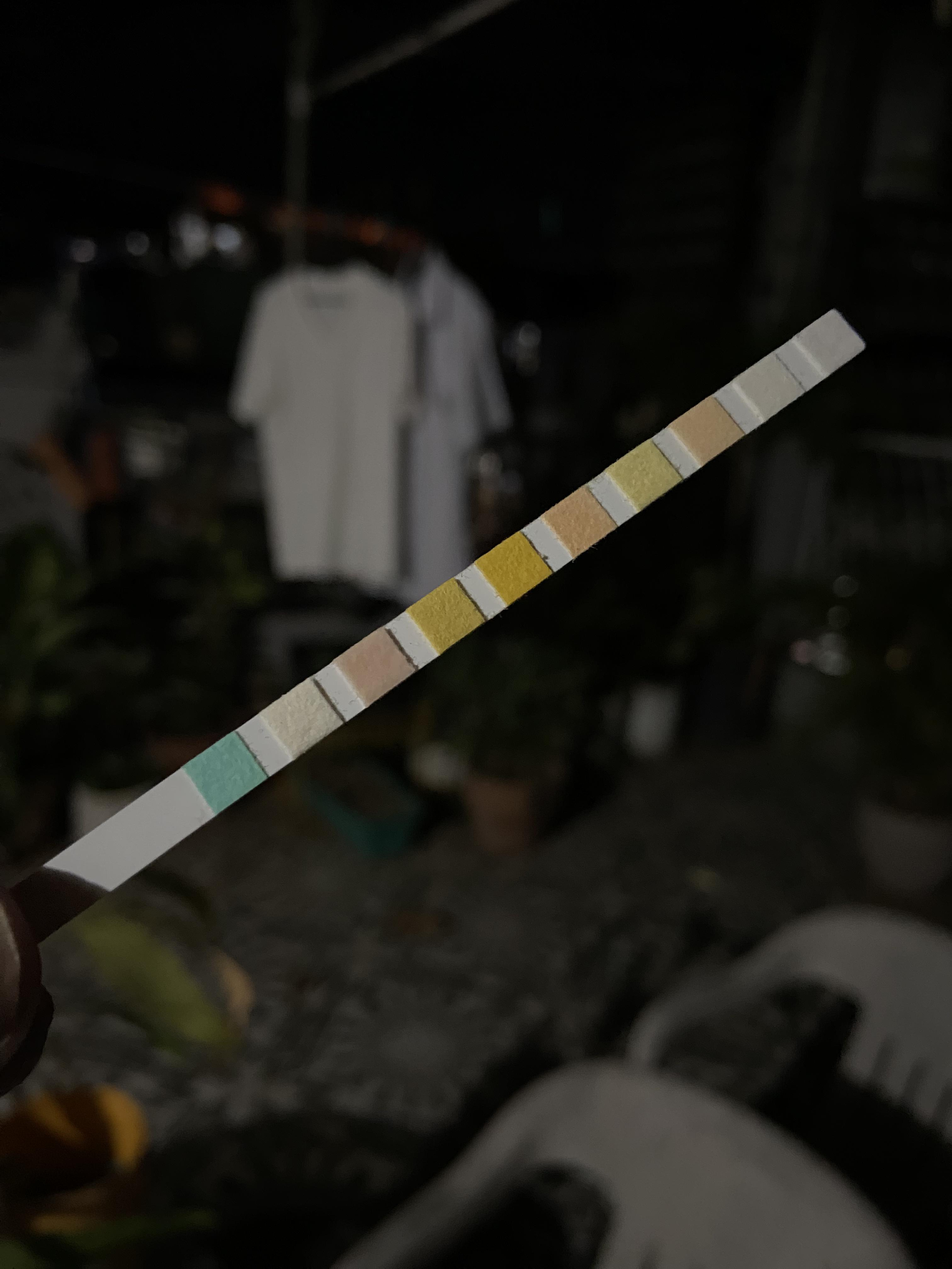Bilirubin: (284, 696, 322, 739)
Blood: (493, 548, 533, 588)
Glucose: (208, 748, 247, 792)
Ketone: (352, 647, 397, 684)
Leukocytes: (809, 326, 848, 360)
Nitrite: (749, 368, 787, 406)
Protein: (623, 456, 664, 493)
SpGravity: (427, 596, 468, 635)
Urobilinogen: (684, 414, 728, 448)
pH: (558, 503, 601, 541)
strip: (12, 310, 867, 941)
